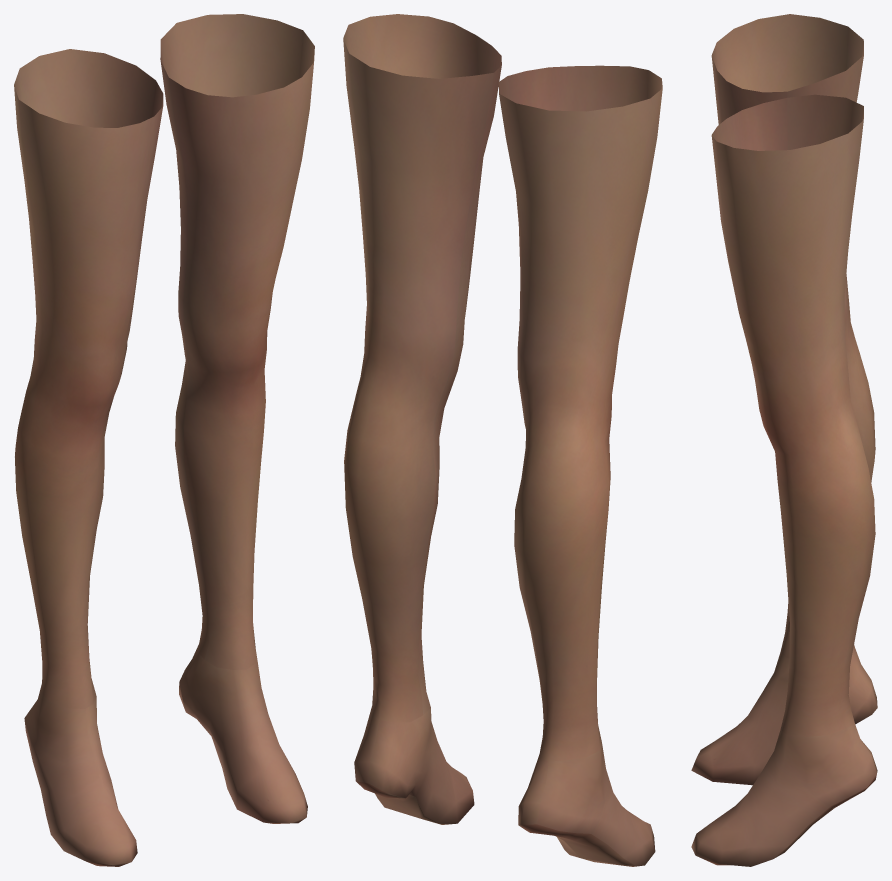
Rendered from Wizard_Boots_Base.FBX.
3 views of the same model, side by side, from view 1: azimuth 30°, elevation 25°; view 2: azimuth 150°, elevation 25°; view 3: azimuth 270°, elevation 25° (orthographic). The views are drawn at different scales.
Visible parts, largest first — view 1: Wizard_Boots_Base; view 2: Wizard_Boots_Base; view 3: Wizard_Boots_Base.
Boxes of the visible parts, box(x1,y1,x2,y2) form: Wizard_Boots_Base: box(14, 14, 314, 866); Wizard_Boots_Base: box(343, 14, 662, 866); Wizard_Boots_Base: box(691, 14, 877, 866).
Bounding box in the file's own units: 41.97 × 106 × 24.28.
